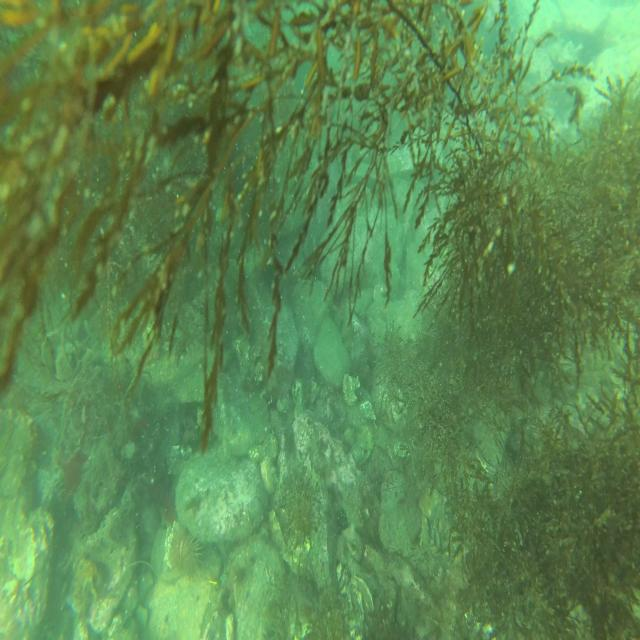echinus: (168, 524, 202, 578)
